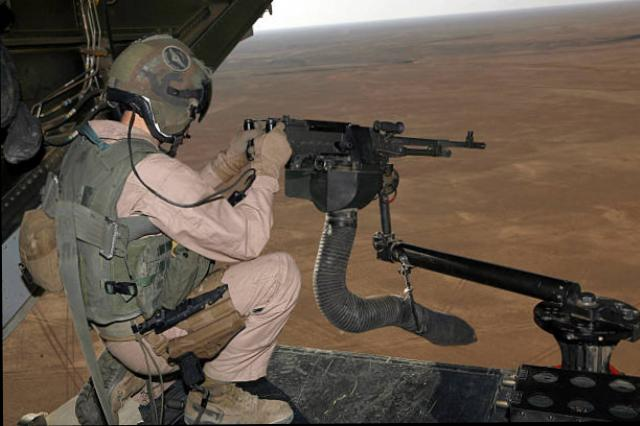other: (55, 33, 291, 395)
